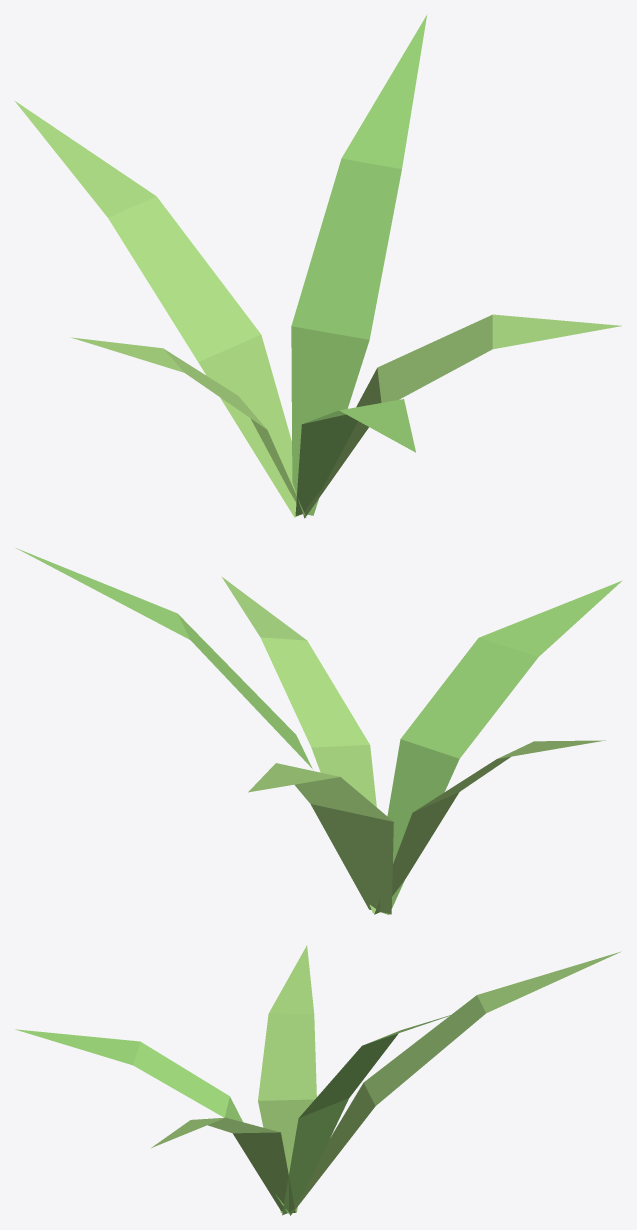
The model's file is Plant_e_OneS_05.fbx.
3 renders of one model, top to bottom at view 1: azimuth 30°, elevation 25°; view 2: azimuth 150°, elevation 25°; view 3: azimuth 270°, elevation 25°, orthographic. The views are drawn at different scales.
Visible parts, largest first — view 1: Plant_e_OneS_05; view 2: Plant_e_OneS_05; view 3: Plant_e_OneS_05.
Boxes of the visible parts, box(x1,y1,x2,y2) form: Plant_e_OneS_05: box(15, 14, 621, 518); Plant_e_OneS_05: box(16, 548, 622, 914); Plant_e_OneS_05: box(15, 945, 621, 1215).
Size of the model in its own units: 0.604 by 0.4612 by 0.8628.
